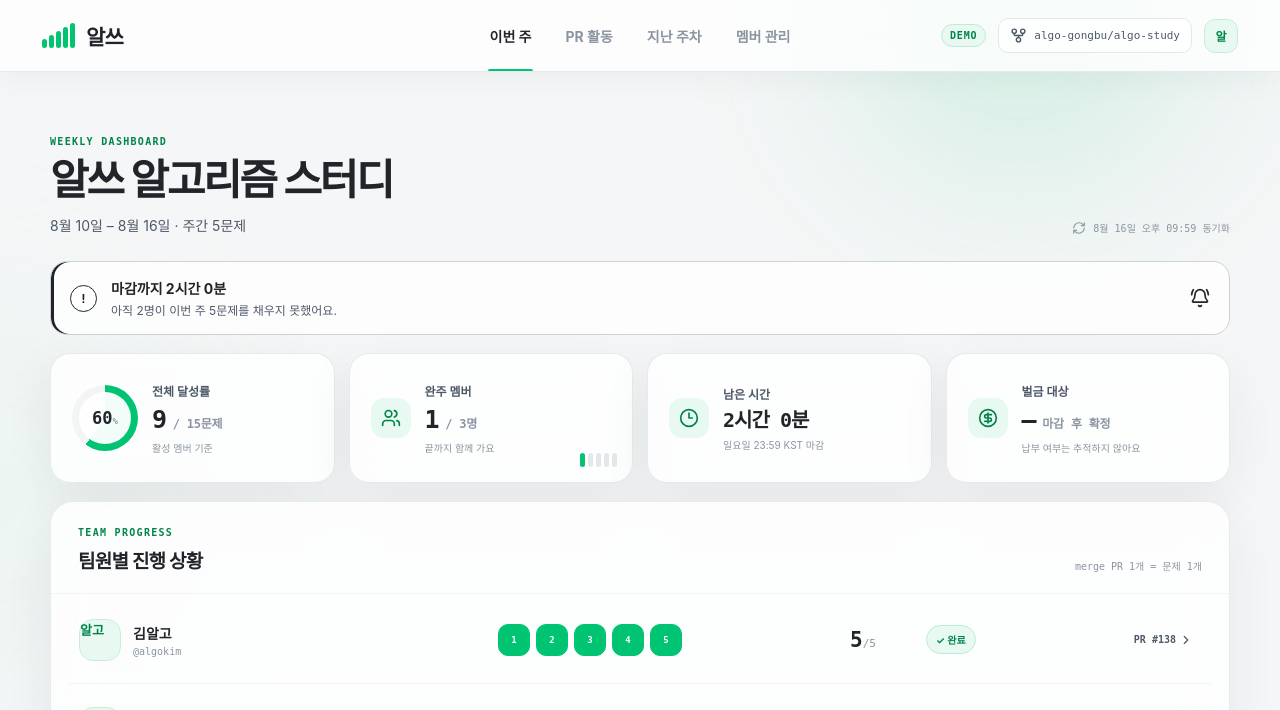
Test case: DashboardShell › shows the final-three-hours warning and opens a PR detail
Expected: the text "마감까지 2시간 0분" is shown, 111,280 -> 226,297
Click the button named "PR #" at x=514, y=640, box 498,624 -> 530,656
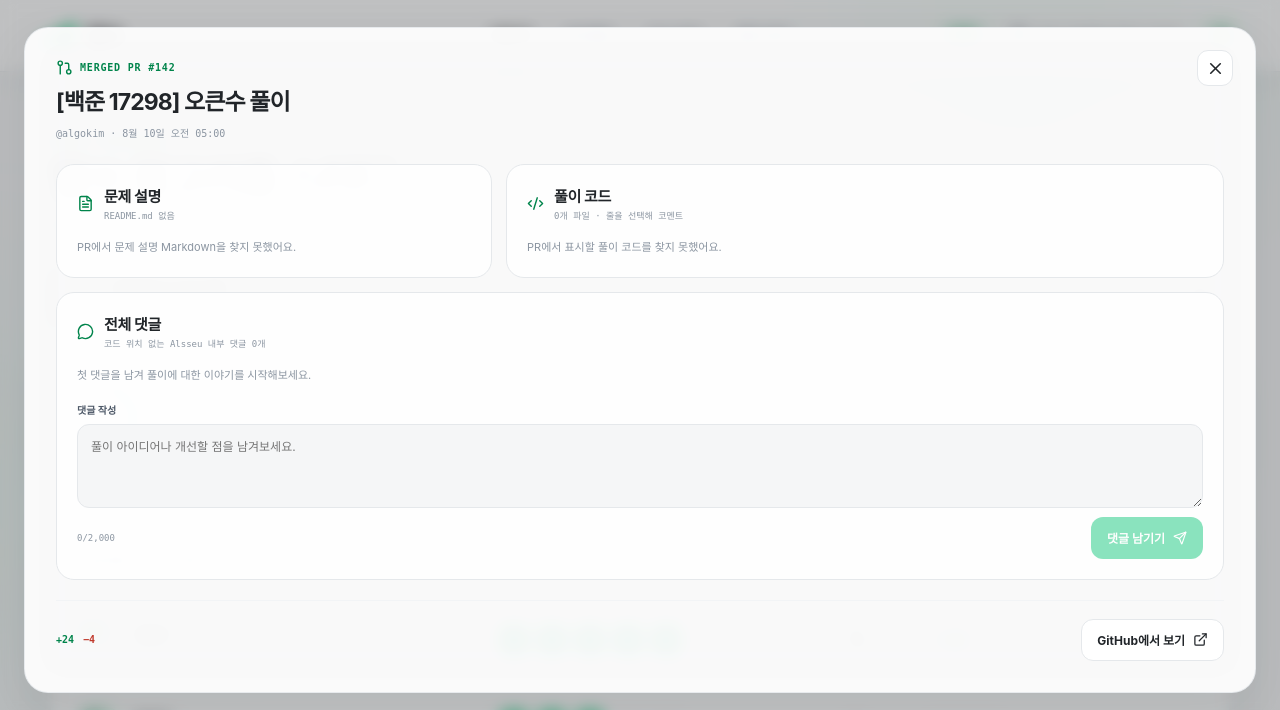
Now the dialog is shown
Now the link "GitHub에서 보기" is shown, box 1081,619 -> 1224,661
